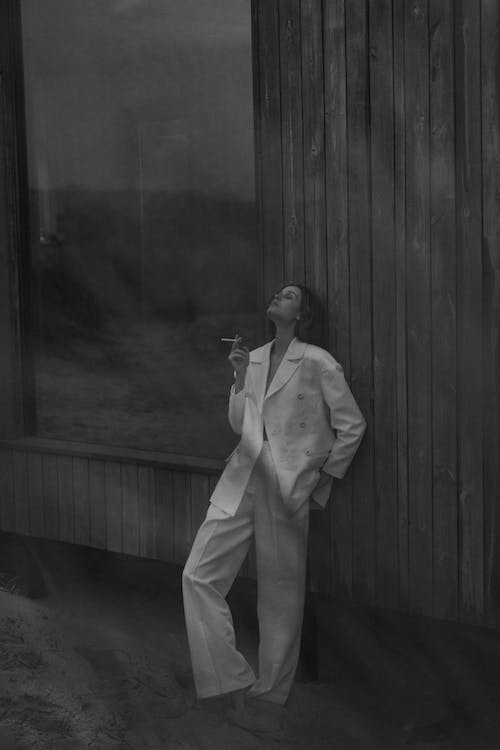cigarette: (218, 333, 239, 344)
